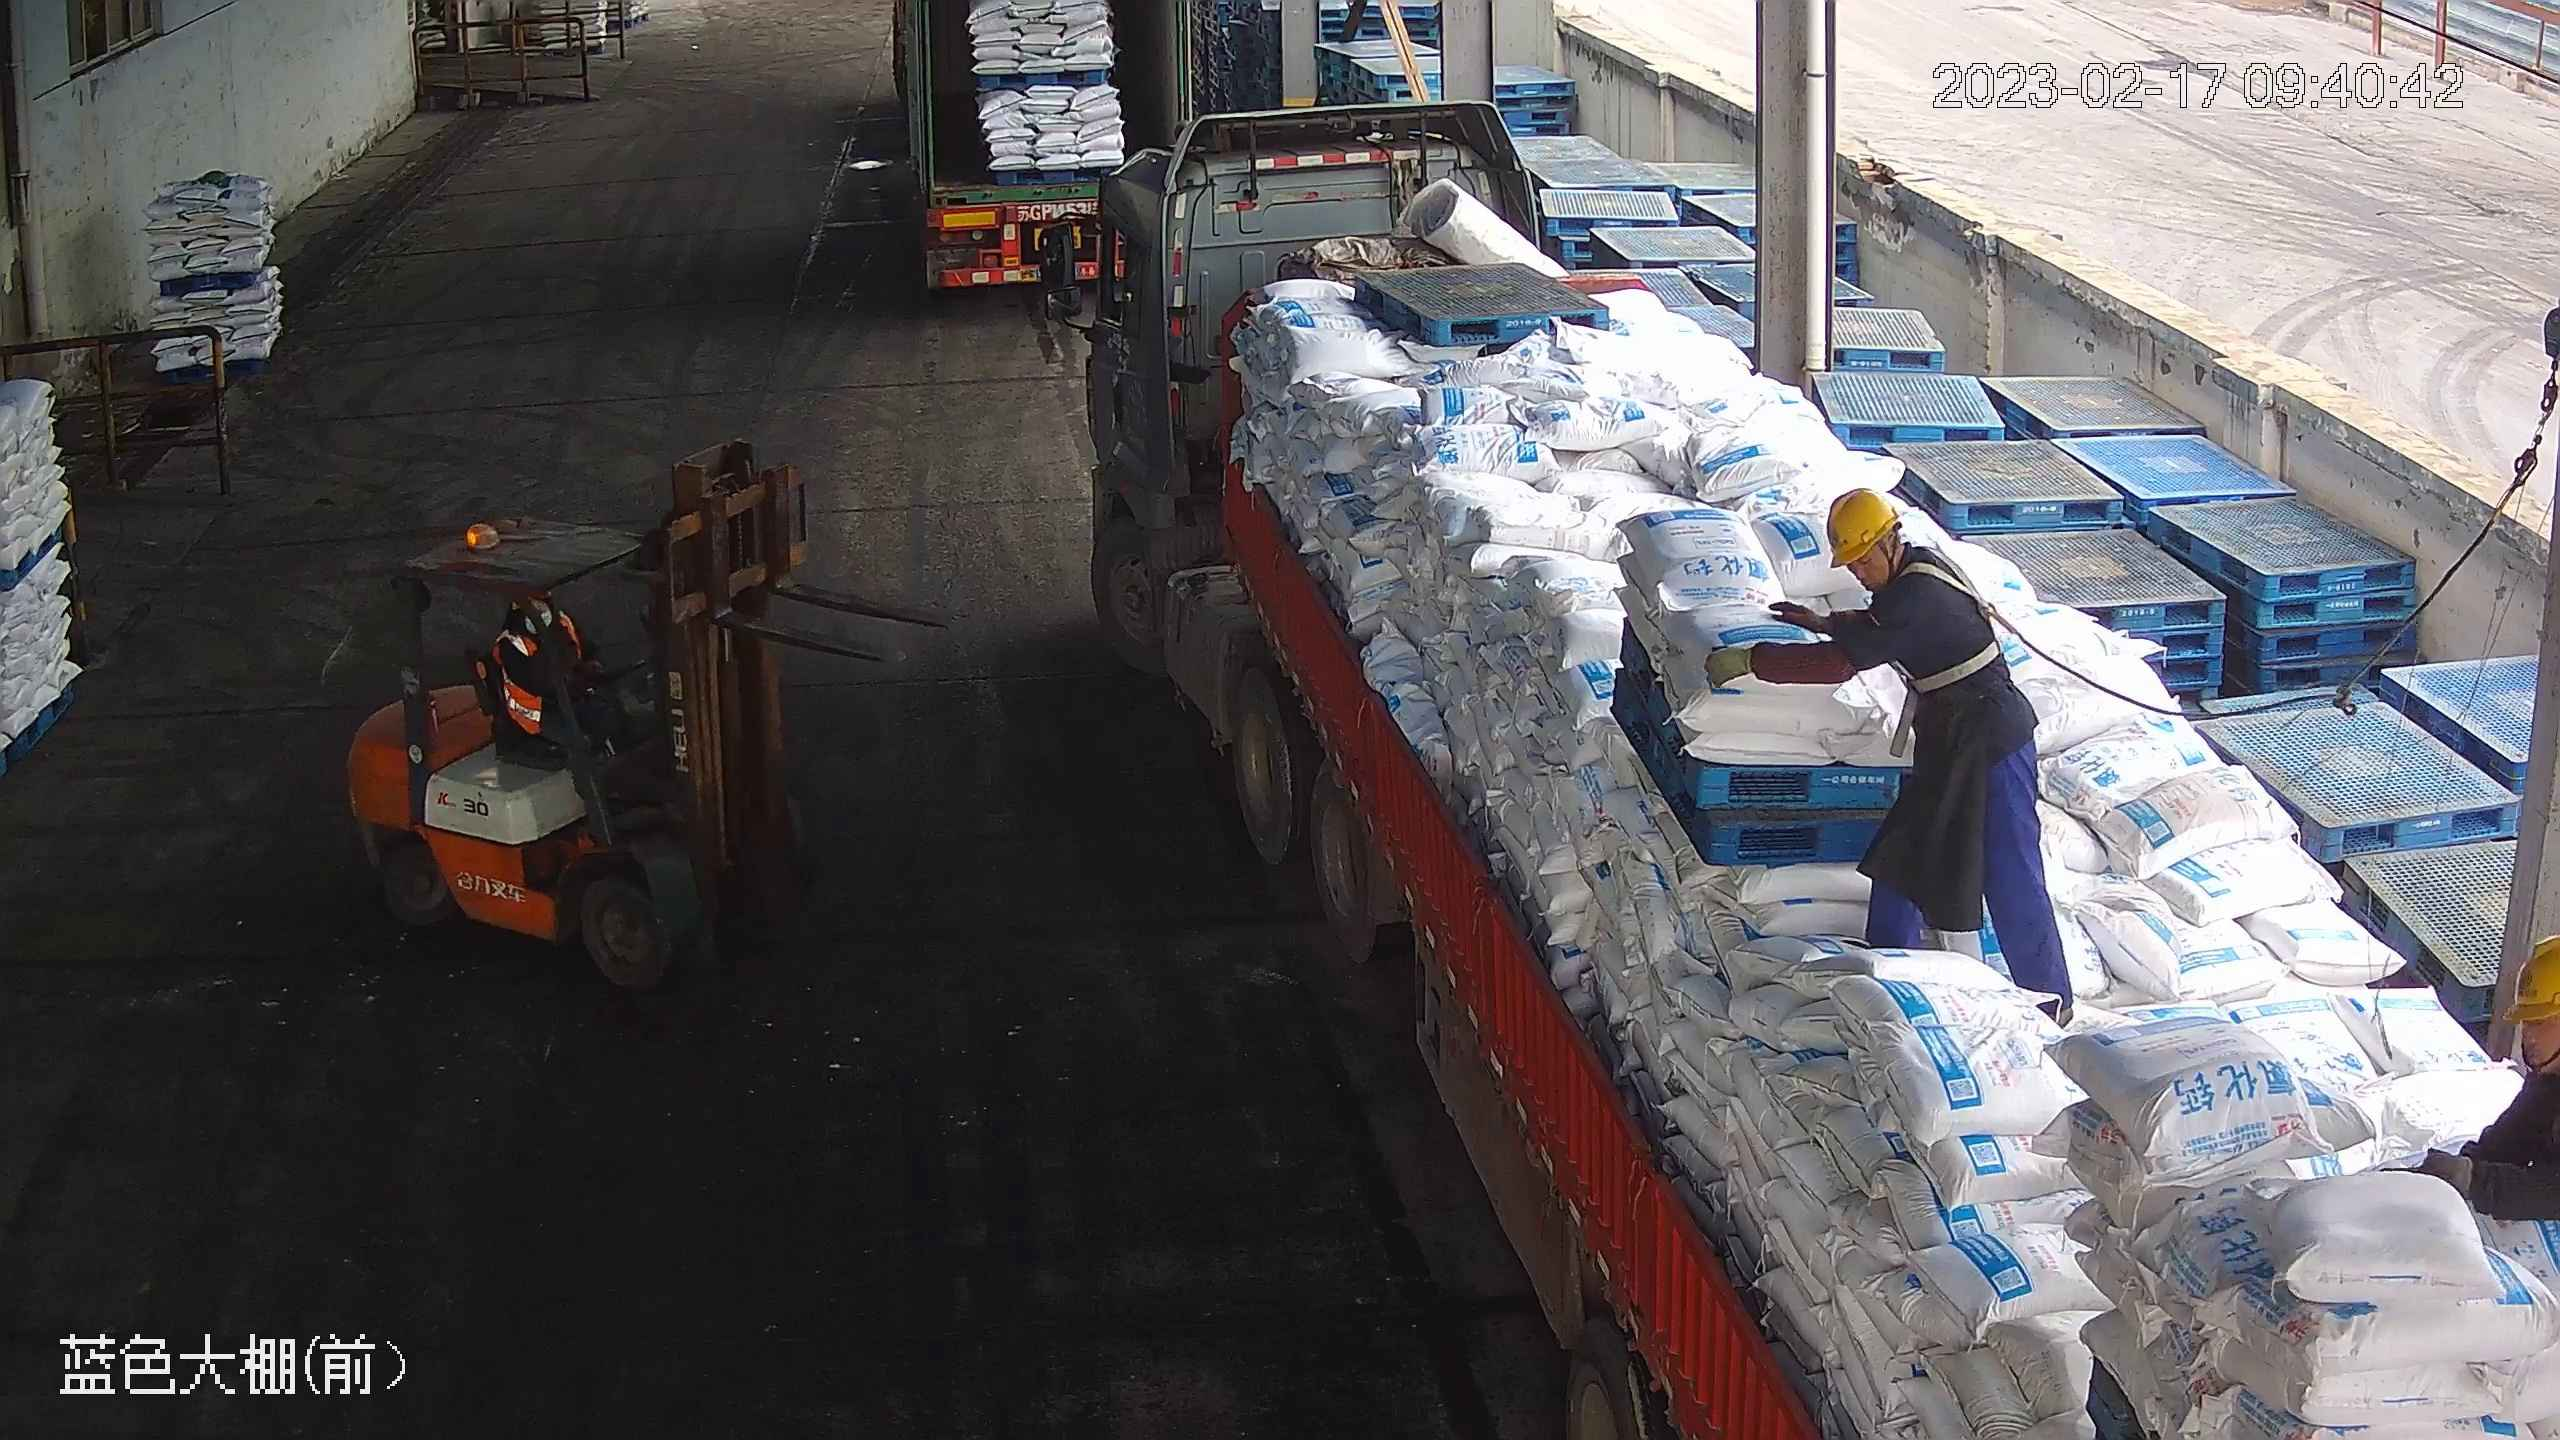belt: (1903, 543, 2018, 694)
head: (1815, 491, 1986, 660)
helmet: (2494, 929, 2560, 1031), (1825, 487, 1907, 568)
people: (1705, 483, 2077, 1019), (492, 584, 613, 794)
truck: (1037, 92, 2560, 1440), (892, 1, 1183, 294)
